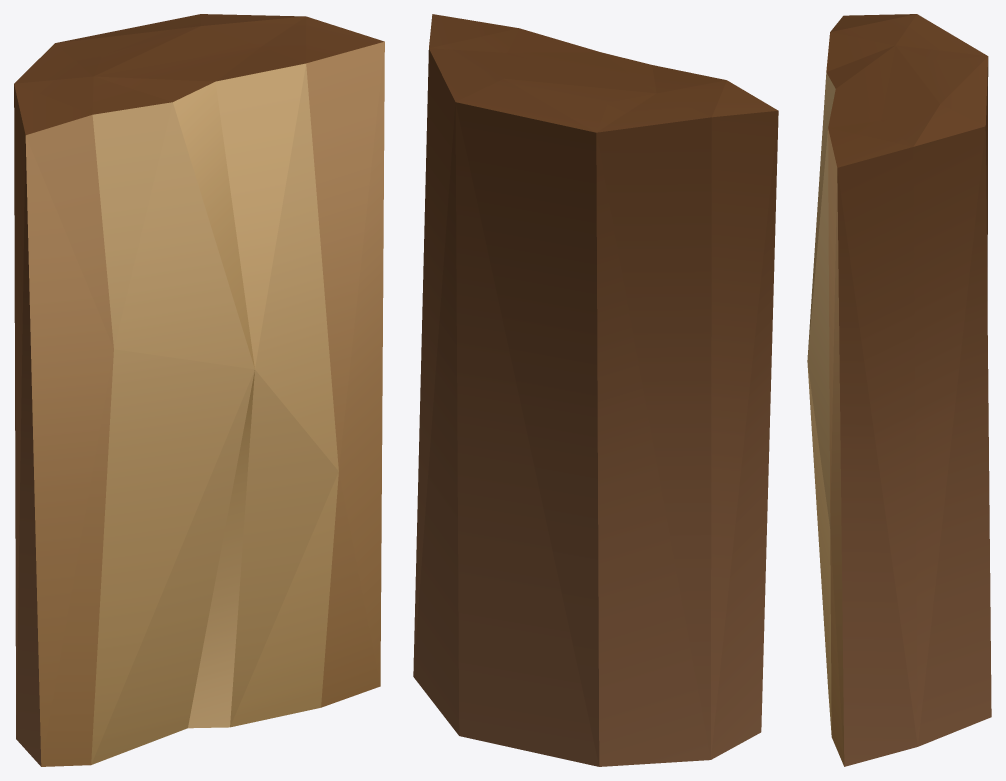
File: Log_Half.fbx
3 renders of one model, left to right at view 1: azimuth 30°, elevation 25°; view 2: azimuth 150°, elevation 25°; view 3: azimuth 270°, elevation 25°, orthographic. The views are drawn at different scales.
Parts seen in each view (by area): view 1: Log_Half; view 2: Log_Half; view 3: Log_Half.
Boxes of the visible parts, x1,y1,x2,y2 form: Log_Half: (14, 14, 384, 766); Log_Half: (413, 14, 778, 766); Log_Half: (807, 14, 991, 766).
Bounding box in the file's own units: 0.3706 × 0.6526 × 0.1794.
1 material, 1 textured.
